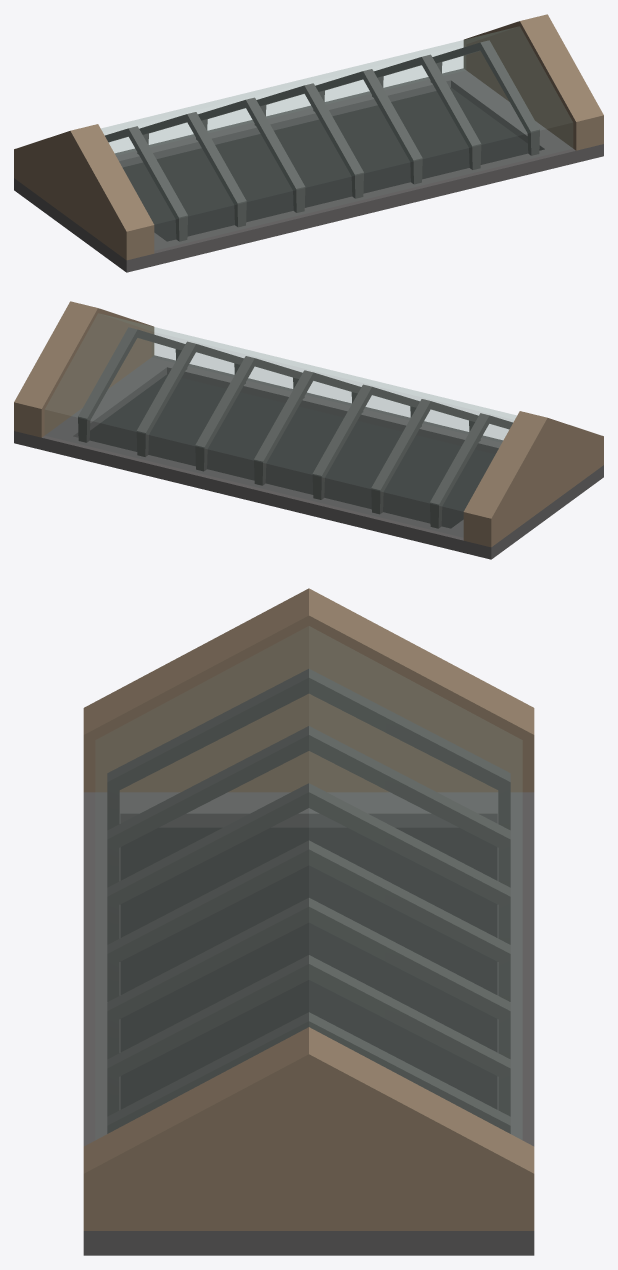
The model's file is SM_Prop_Skylight_01.fbx.
3 renders of one model, top to bottom at view 1: azimuth 30°, elevation 25°; view 2: azimuth 150°, elevation 25°; view 3: azimuth 270°, elevation 25°, orthographic. The views are drawn at different scales.
Visible parts, largest first — view 1: SM_Prop_Skylight_01, SM_Prop_Skylight_01_Glass; view 2: SM_Prop_Skylight_01, SM_Prop_Skylight_01_Glass; view 3: SM_Prop_Skylight_01, SM_Prop_Skylight_01_Glass.
Boxes of the visible parts, x1,y1,x2,y2 form: SM_Prop_Skylight_01: (14, 14, 603, 272); SM_Prop_Skylight_01_Glass: (101, 27, 572, 249); SM_Prop_Skylight_01: (14, 301, 603, 559); SM_Prop_Skylight_01_Glass: (45, 314, 516, 536); SM_Prop_Skylight_01: (83, 588, 534, 1255); SM_Prop_Skylight_01_Glass: (96, 626, 521, 1139).
Size of the model in its own units: 386 by 77.87 by 158.
